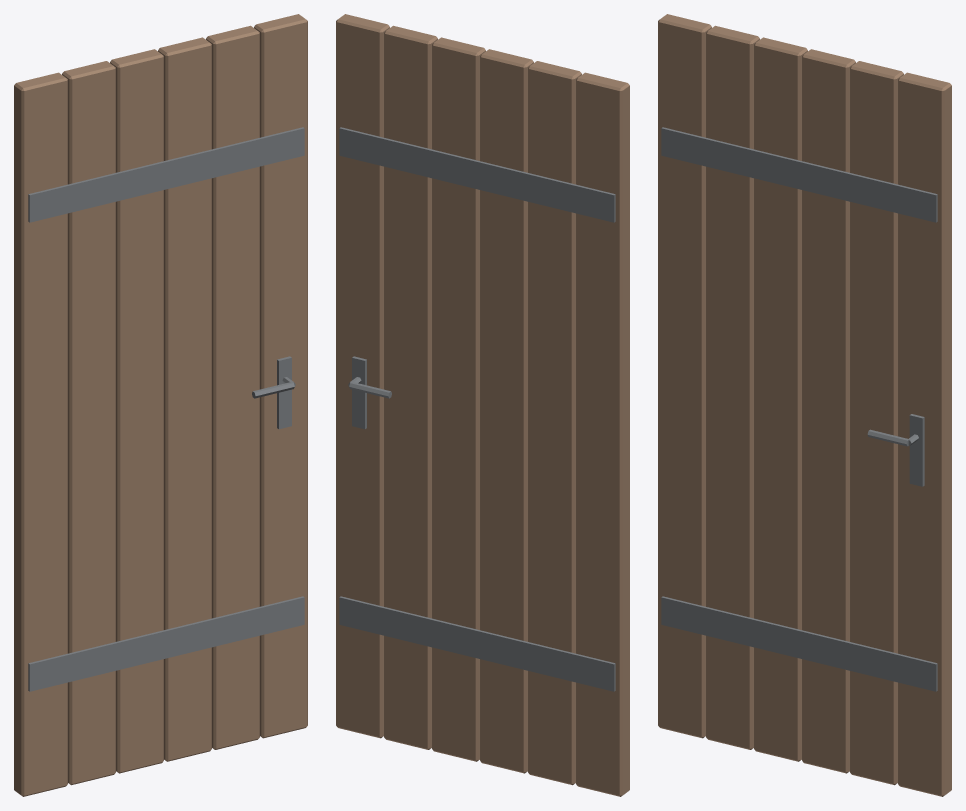
The model's file is door_loft.glb.
3 views of the same model, side by side, from view 1: azimuth 30°, elevation 25°; view 2: azimuth 150°, elevation 25°; view 3: azimuth 330°, elevation 25° (orthographic).
Visible parts, largest first — view 1: door_loft_door, door_loft_steel_d; view 2: door_loft_door, door_loft_steel_d; view 3: door_loft_door, door_loft_steel_d.
Part boxes in pixels (left/top/right/bottom): door_loft_door: left=14, top=14, right=307, bottom=796; door_loft_steel_d: left=28, top=127, right=304, bottom=691; door_loft_door: left=336, top=14, right=629, bottom=796; door_loft_steel_d: left=339, top=127, right=615, bottom=691; door_loft_door: left=658, top=14, right=951, bottom=796; door_loft_steel_d: left=661, top=127, right=937, bottom=691.
Bounding box in the file's own units: 0.876 × 2.07 × 0.17.
